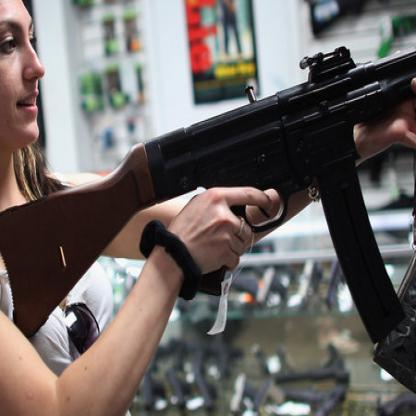gun: (0, 0, 415, 364), (310, 0, 415, 51)
